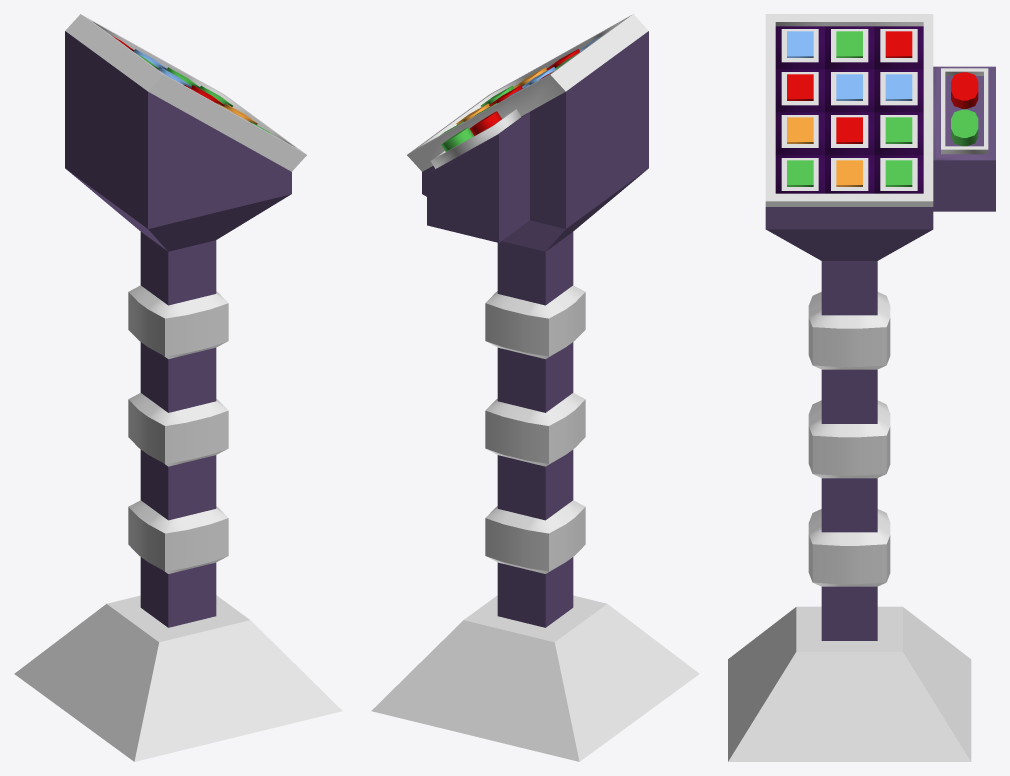
Rendered from Panel_AssestsConcert.fbx.
3 views of the same model, side by side, from view 1: azimuth 30°, elevation 25°; view 2: azimuth 150°, elevation 25°; view 3: azimuth 270°, elevation 25° (orthographic).
Visible parts, largest first — view 1: Panel; view 2: Panel; view 3: Panel.
Boxes of the visible parts, box(x1,y1,x2,y2) form: Panel: box(14, 14, 342, 761); Panel: box(371, 14, 699, 761); Panel: box(728, 14, 995, 761).
Size of the model in its own units: 91.36 by 277 by 101.
